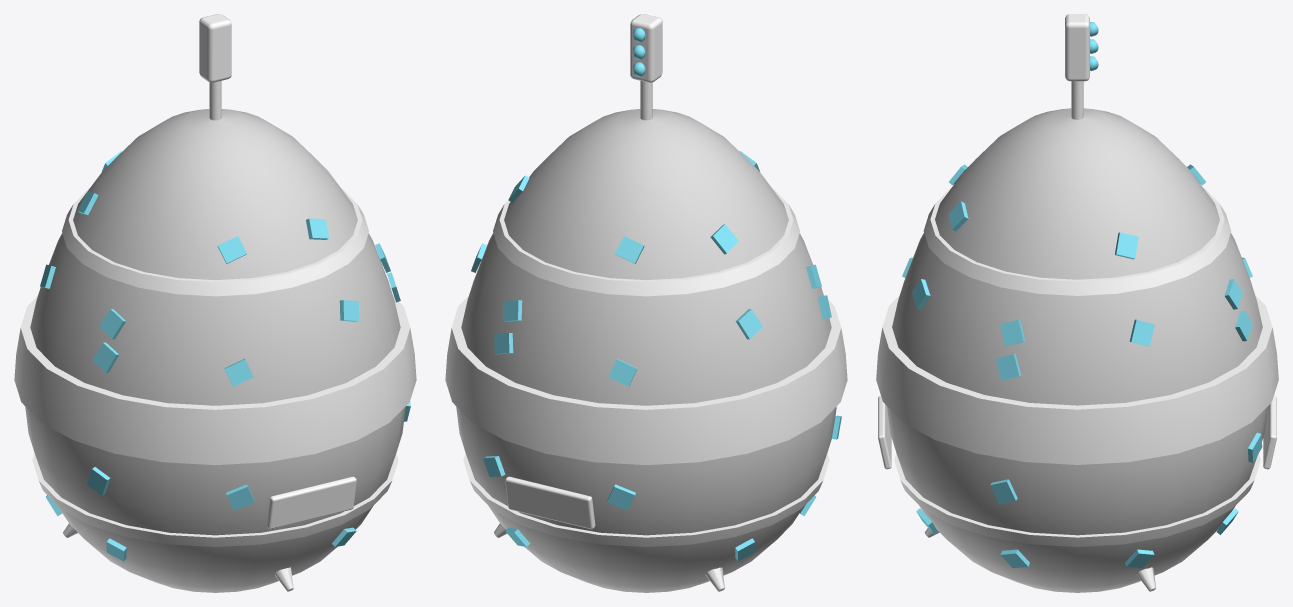
The model's file is DowntownEgg.glb.
3 views of the same model, side by side, from view 1: azimuth 30°, elevation 25°; view 2: azimuth 150°, elevation 25°; view 3: azimuth 270°, elevation 25° (orthographic).
Visible parts, largest first — view 1: Shell, Band, Glow; view 2: Shell, Band, Glow; view 3: Shell, Band, Glow.
Part boxes in pixels (bbox=[...]): Shell: bbox=[25, 109, 405, 592]; Band: bbox=[14, 14, 416, 591]; Glow: bbox=[40, 151, 410, 561]; Shell: bbox=[456, 109, 836, 592]; Band: bbox=[445, 14, 847, 591]; Glow: bbox=[471, 28, 841, 561]; Shell: bbox=[887, 108, 1267, 592]; Band: bbox=[876, 14, 1278, 591]; Glow: bbox=[902, 22, 1262, 568].
Size of the model in its own units: 3.19 by 4.86 by 3.19.
